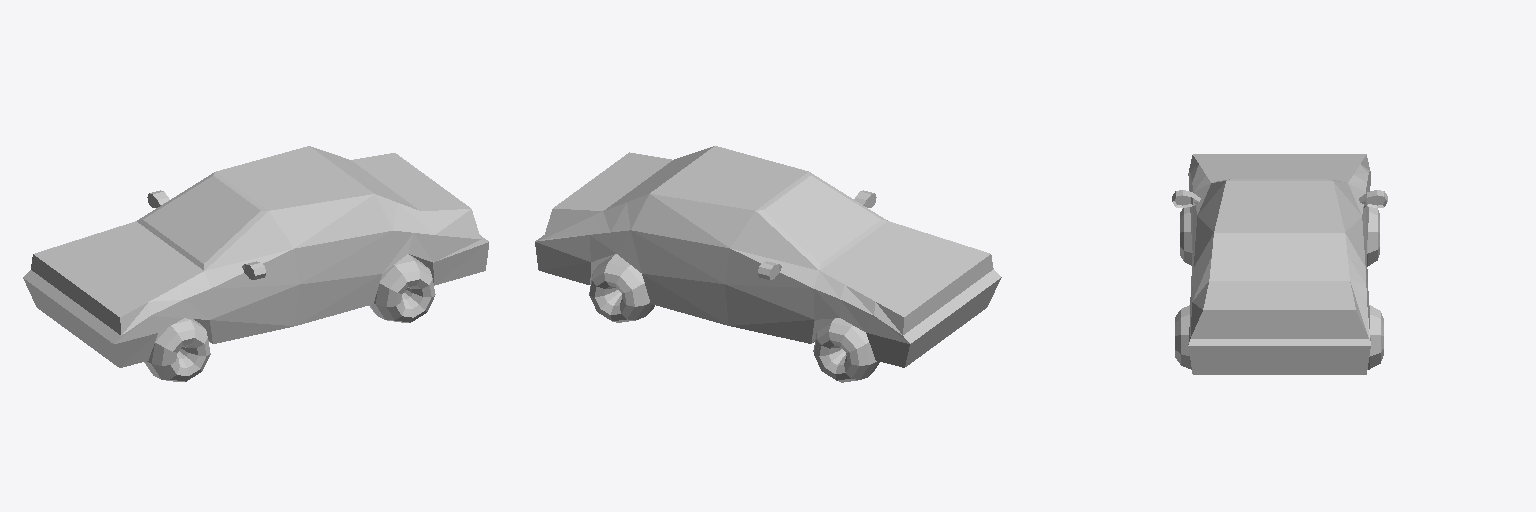
The model's file is BasicCar.obj.
The picture shows the model from 3 angles: view 1: azimuth 30°, elevation 25°; view 2: azimuth 150°, elevation 25°; view 3: azimuth 270°, elevation 25°; orthographic projection.
Visible parts, largest first — view 1: front2; view 2: front2; view 3: front2.
Part boxes in pixels (left/top/right/bottom): front2: left=23, top=146, right=488, bottom=381; front2: left=535, top=146, right=1001, bottom=382; front2: left=1172, top=154, right=1387, bottom=374.
Bounding box in the file's own units: 11.37 × 3.95 × 5.65.